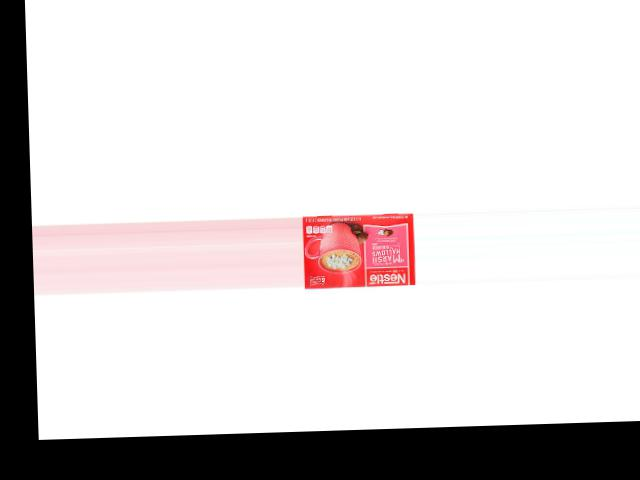chocolate: (301, 208, 412, 286)
